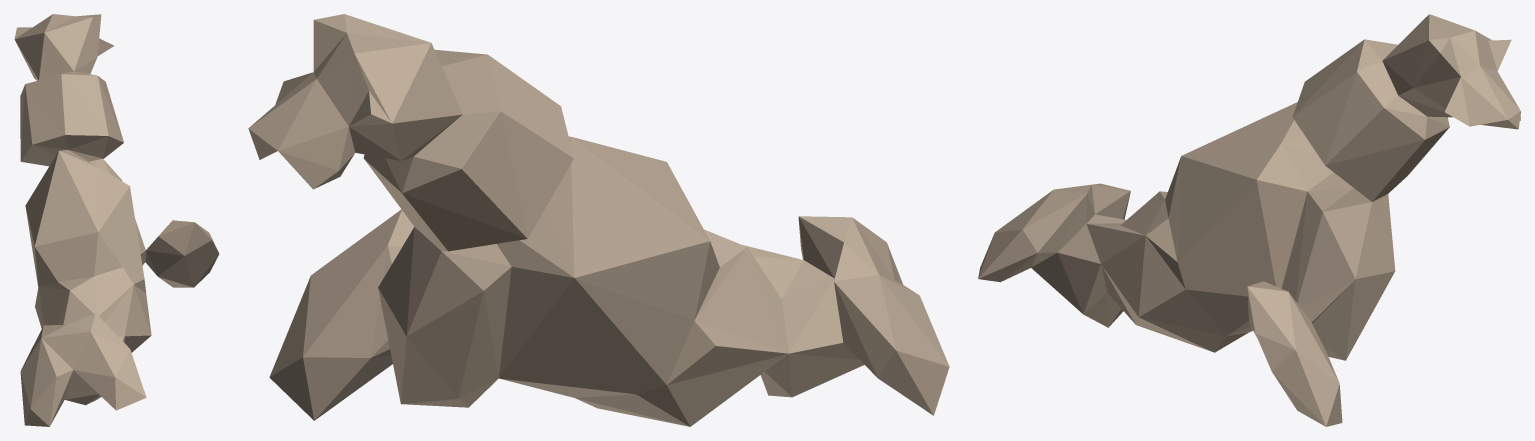
3 renders of one model, left to right at view 1: azimuth 30°, elevation 25°; view 2: azimuth 150°, elevation 25°; view 3: azimuth 270°, elevation 25°, orthographic. The views are drawn at different scales.
Parts seen in each view (by area): view 1: part0; view 2: part0; view 3: part0.
Part boxes in pixels (x1,y1,x2,y2): part0: (14,14,219,426); part0: (248,14,949,426); part0: (978,14,1520,426).
Size of the model in its own units: 11.08 by 10.27 by 13.9.
